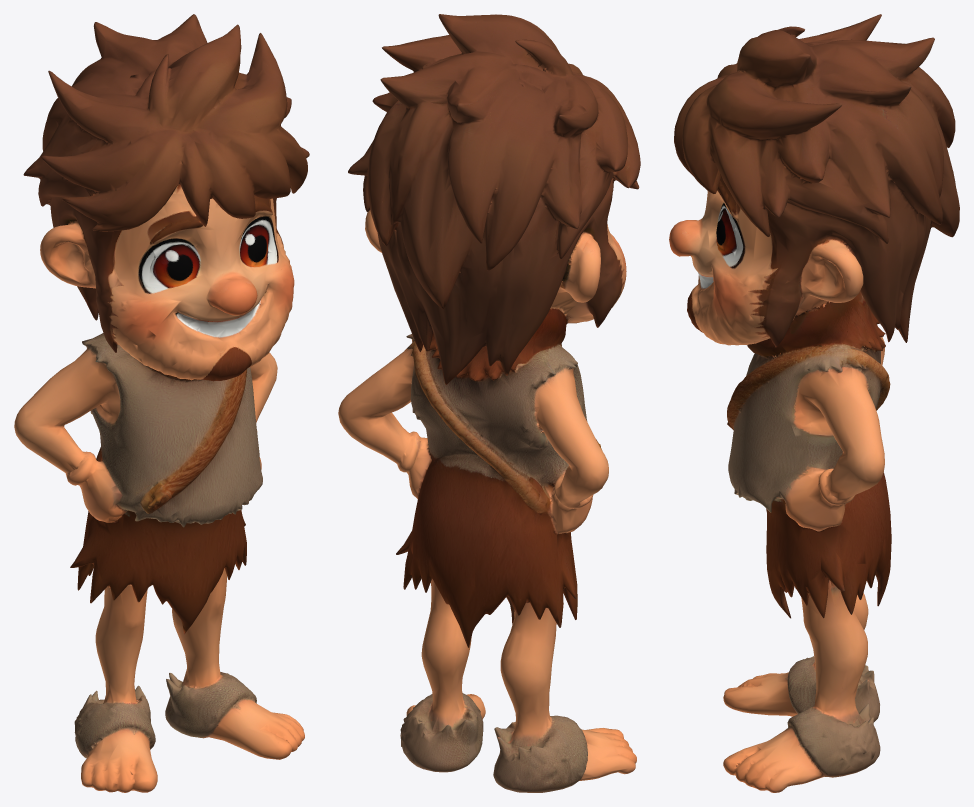
Rendered from ugg-character.glb.
3 views of the same model, side by side, from view 1: azimuth 30°, elevation 25°; view 2: azimuth 150°, elevation 25°; view 3: azimuth 270°, elevation 25° (orthographic). The views are drawn at different scales.
Size of the model in its own units: 0.7216 by 1.9 by 0.6967.
1 material, 1 textured.
